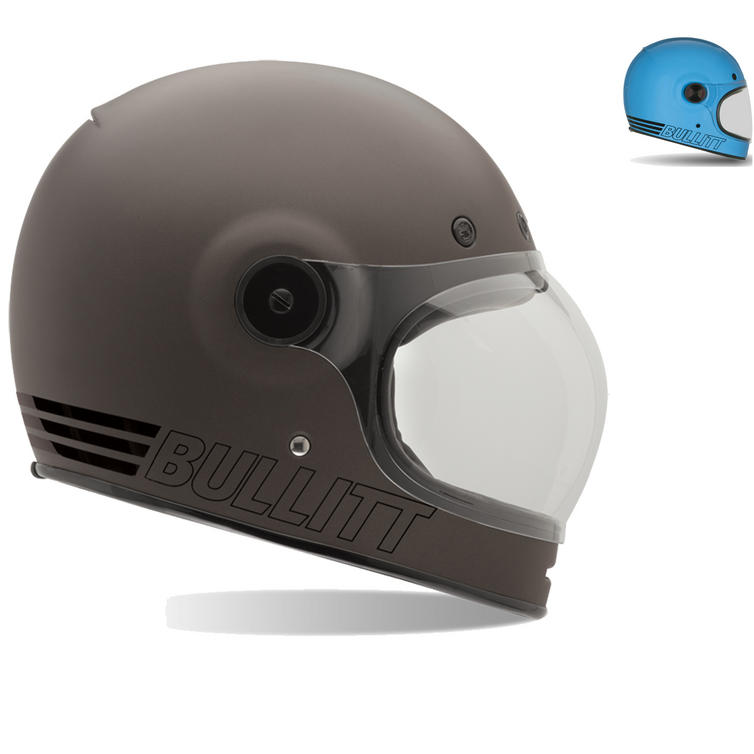with_helmet: (10, 57, 597, 621)
